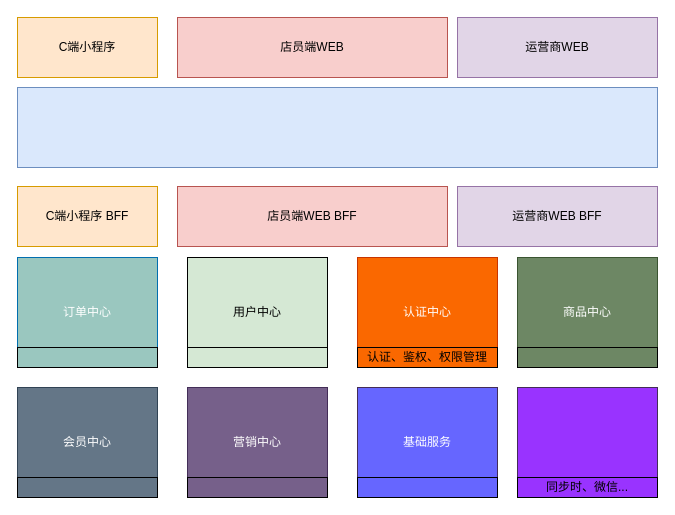
This 675x515 diagram has some shape labels left out. Each missing label, with the box of its shape:
公司、门店、员工: (186, 346, 328, 368)
单号、OSS、字典...: (356, 476, 498, 498)
卡券、活动: (186, 476, 328, 498)
商品SKU、上架、下架: (516, 346, 658, 368)
权益卡、会员级别、钱包: (16, 476, 158, 498)
第三方集成服务: (516, 386, 658, 498)
网关（路由、限流、黑白名单、灰度、鉴权集成）: (16, 86, 658, 168)
订单、支付: (16, 346, 158, 368)
